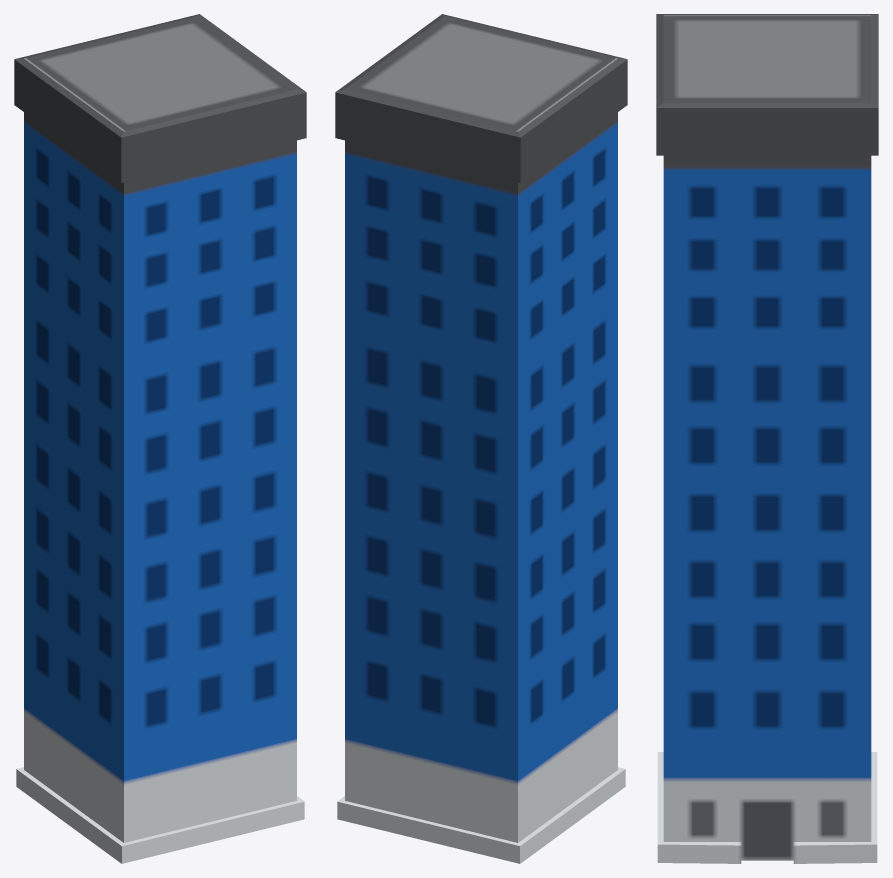
File: building-large.fbx
3 views of the same model, side by side, from view 1: azimuth 30°, elevation 25°; view 2: azimuth 150°, elevation 25°; view 3: azimuth 270°, elevation 25° (orthographic). The views are drawn at different scales.
Parts seen in each view (by area): view 1: Large; view 2: Large; view 3: Large.
Part boxes in pixels (left/top/right/bottom): Large: left=14, top=14, right=306, bottom=863; Large: left=335, top=14, right=627, bottom=863; Large: left=656, top=14, right=878, bottom=863.
Bounding box in the file's own units: 215 × 804 × 214.
